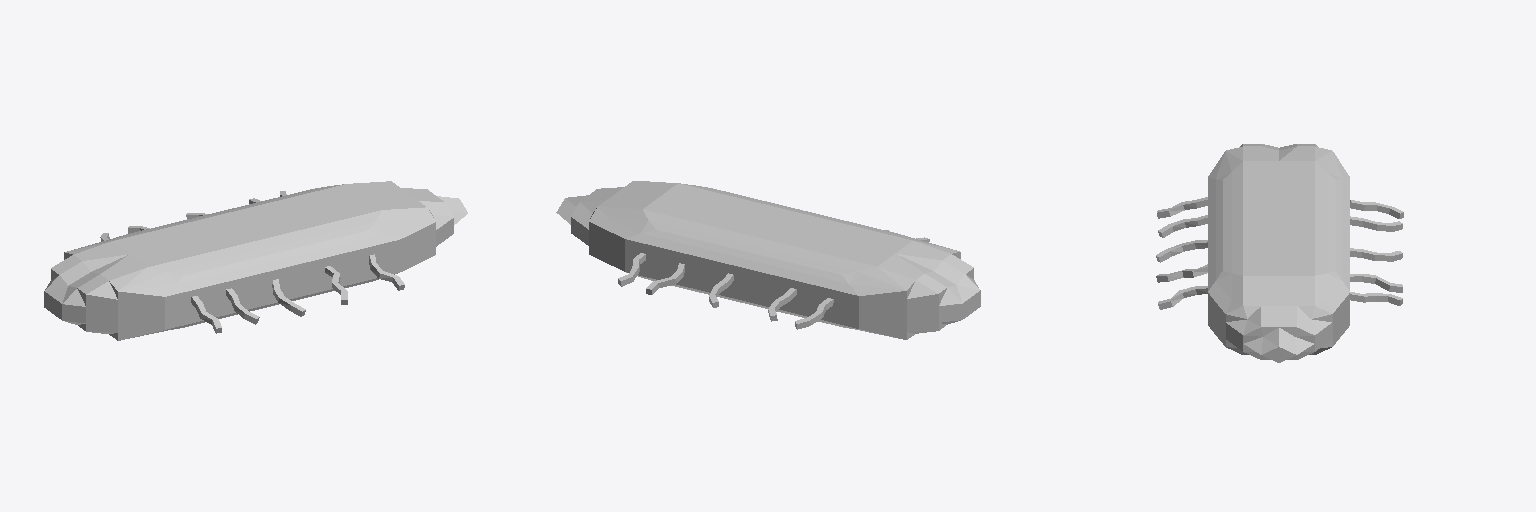
Rendered from New Germ.obj.
3 views of the same model, side by side, from view 1: azimuth 30°, elevation 25°; view 2: azimuth 150°, elevation 25°; view 3: azimuth 270°, elevation 25° (orthographic).
Parts seen in each view (by area): view 1: Cube; view 2: Cube; view 3: Cube.
Part boxes in pixels (x1,y1,x2,y2): Cube: (44,181,467,340); Cube: (556,181,980,339); Cube: (1156,144,1403,362).
Bounding box in the file's own units: 4.27 × 0.6624 × 2.26.